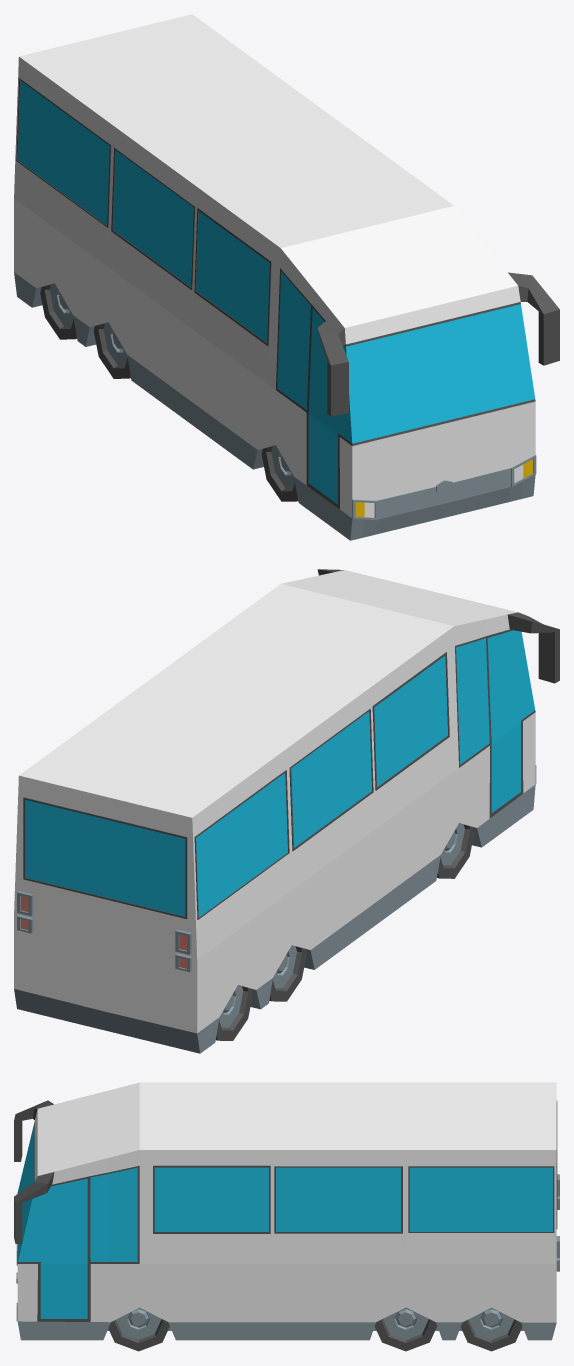
Rendered from Bus.glb.
3 views of the same model, one above another, from view 1: azimuth 30°, elevation 25°; view 2: azimuth 150°, elevation 25°; view 3: azimuth 270°, elevation 25° (orthographic). The views are drawn at different scales.
Parts seen in each view (by area): view 1: bus_Cube.027; view 2: bus_Cube.027; view 3: bus_Cube.027.
Boxes of the visible parts, left/top/right/bottom form: bus_Cube.027: left=14, top=14, right=559, bottom=540; bus_Cube.027: left=14, top=569, right=559, bottom=1053; bus_Cube.027: left=14, top=1082, right=559, bottom=1351.
Bounding box in the file's own units: 9.16 × 9.68 × 23.75.
